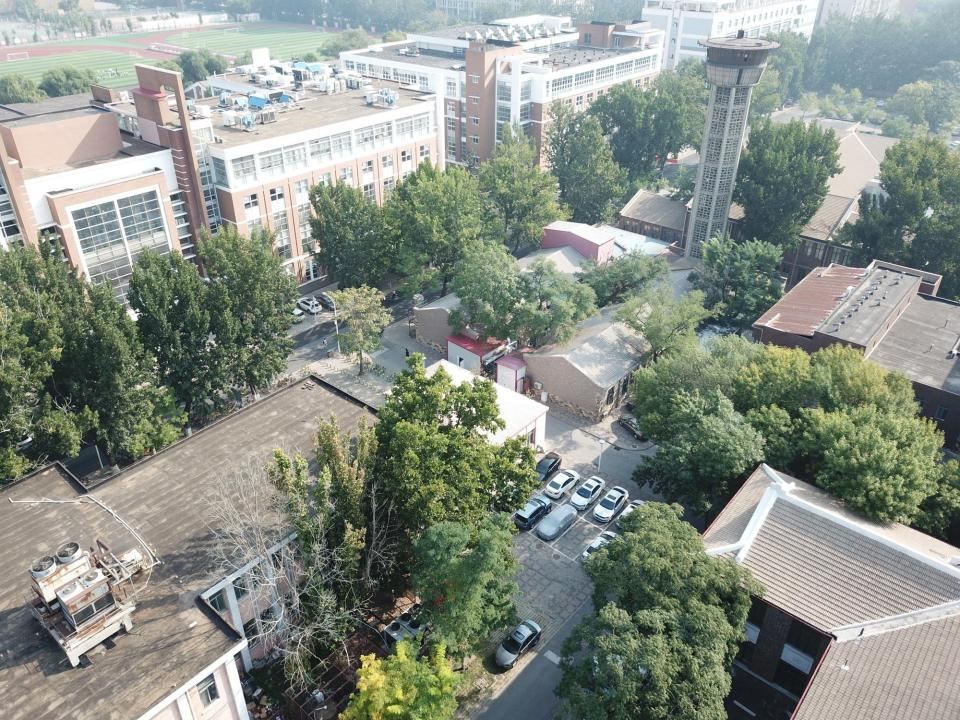car: (493, 619, 541, 669), (536, 504, 578, 540), (581, 530, 620, 567), (592, 486, 629, 522), (514, 495, 552, 529), (493, 481, 532, 512), (570, 476, 605, 510), (528, 452, 562, 486), (544, 469, 580, 499), (0, 426, 35, 453), (616, 500, 647, 530), (618, 413, 652, 439), (626, 399, 660, 424), (338, 280, 369, 296), (279, 306, 305, 324), (296, 297, 322, 314), (314, 293, 340, 310), (269, 314, 290, 330), (390, 264, 411, 276), (930, 122, 948, 134), (766, 101, 784, 110), (760, 104, 778, 112), (894, 114, 910, 123), (860, 130, 878, 138), (945, 142, 959, 152), (779, 98, 795, 106), (784, 96, 799, 103), (799, 90, 814, 97), (119, 4, 136, 10), (129, 3, 146, 9), (750, 112, 764, 119), (840, 113, 853, 120), (870, 118, 882, 125), (872, 116, 887, 121), (876, 100, 888, 106), (952, 127, 960, 136), (826, 112, 837, 118)
